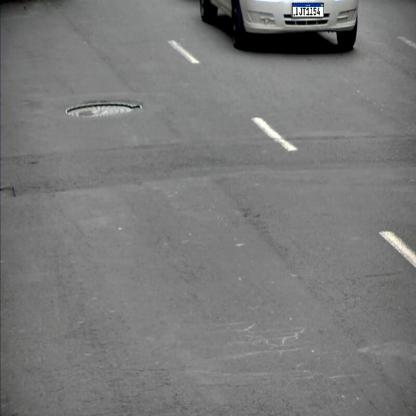PlacaM: (292, 3, 324, 17)
